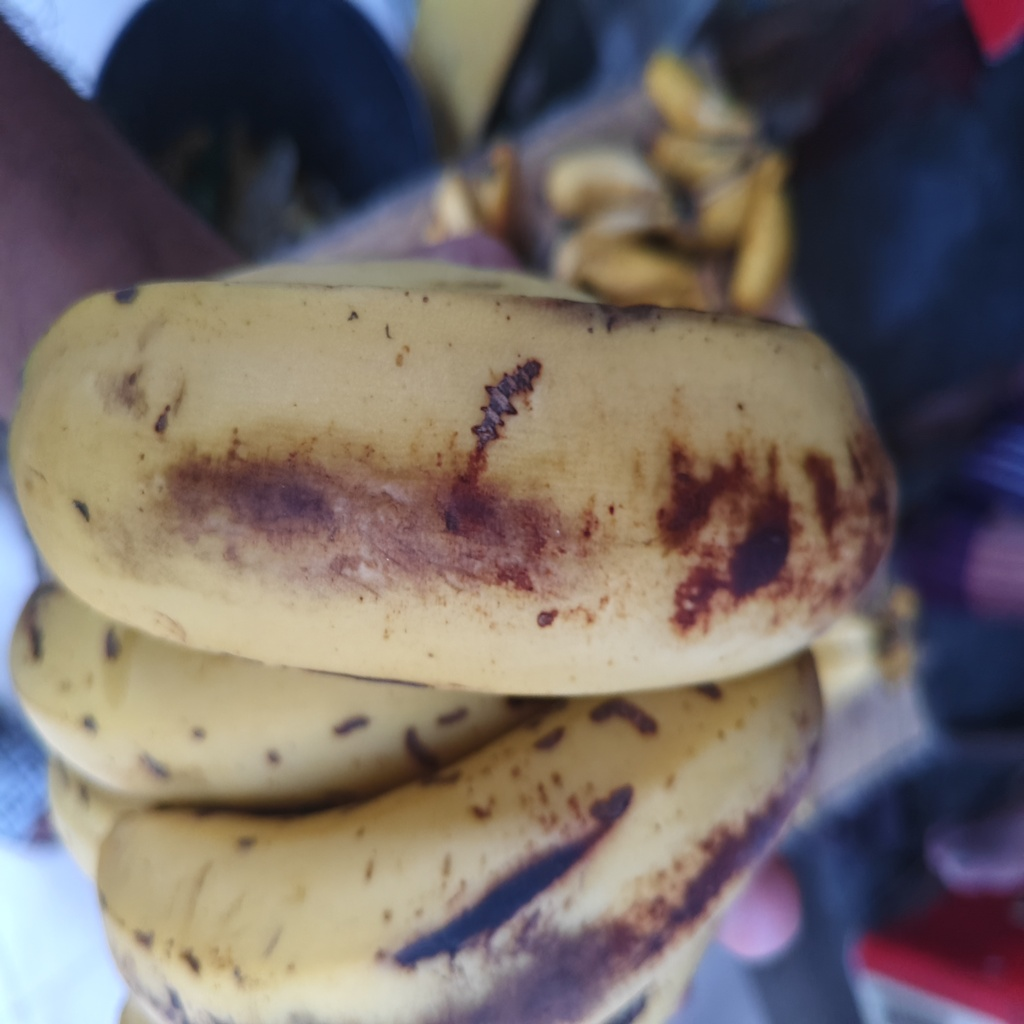unhealthy: (47, 288, 899, 687), (103, 677, 805, 1008)
